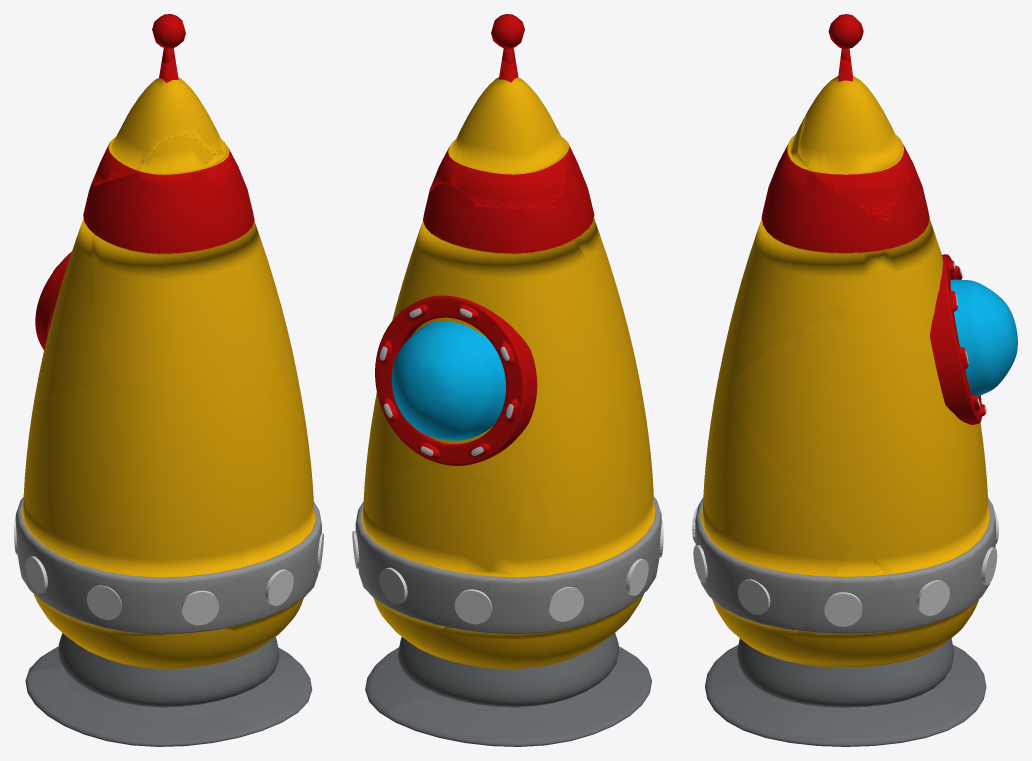
File: Ship Yellow Fractured.fbx
The picture shows the model from 3 angles, left to right: view 1: azimuth 30°, elevation 25°; view 2: azimuth 150°, elevation 25°; view 3: azimuth 270°, elevation 25°; orthographic projection.
Visible parts, largest first — view 1: Cube.002_shard.006, Cube.002_shard, Cube.002_shard.013, Cube.002_shard.005, Cube.002_shard.009, Cube.002_shard.001, Cube.002_shard.003, Cylinder.010, Cube.002_shard.010, Cube.002_shard.007, Window, Cube.002_shard.008 (+1 smaller); view 2: Cube.002_shard.009, Cube.002_shard.004, Window, Cube.002_shard.002, Cube.002_shard.006, Cube.002_shard.001, Cube.002_shard.013, Cylinder.010, Cube.002_shard, Cube.002_shard.007, Cube.002_shard.011, Cube.002_shard.012 (+1 smaller); view 3: Cube.002_shard.007, Cube.002_shard.005, Cube.002_shard, Cube.002_shard.011, Cube.002_shard.002, Cube.002_shard.001, Window, Cube.002_shard.003, Cube.002_shard.009, Cylinder.010, Cube.002_shard.004, Cube.002_shard.013 (+3 smaller).
Part boxes in pixels (x1=…): Cube.002_shard.006: x1=15, y1=381, x2=266, y2=636; Cube.002_shard: x1=90, y1=152, x2=281, y2=403; Cube.002_shard.013: x1=25, y1=603, x2=251, y2=746; Cube.002_shard.005: x1=231, y1=406, x2=321, y2=649; Cube.002_shard.009: x1=33, y1=173, x2=109, y2=408; Cube.002_shard.001: x1=93, y1=58, x2=230, y2=186; Cube.002_shard.003: x1=224, y1=620, x2=312, y2=733; Cylinder.010: x1=14, y1=517, x2=323, y2=625; Cube.002_shard.010: x1=134, y1=136, x2=212, y2=186; Cube.002_shard.007: x1=264, y1=286, x2=304, y2=417; Window: x1=35, y1=251, x2=71, y2=349; Cube.002_shard.008: x1=152, y1=14, x2=185, y2=63; Cube.002_shard.009: x1=403, y1=206, x2=628, y2=491; Cube.002_shard.004: x1=386, y1=491, x2=592, y2=746; Window: x1=375, y1=295, x2=537, y2=465; Cube.002_shard.002: x1=355, y1=464, x2=532, y2=638; Cube.002_shard.006: x1=538, y1=334, x2=661, y2=636; Cube.002_shard.001: x1=429, y1=60, x2=569, y2=210; Cube.002_shard.013: x1=539, y1=594, x2=651, y2=743; Cylinder.010: x1=352, y1=520, x2=663, y2=624; Cube.002_shard: x1=422, y1=151, x2=629, y2=335; Cube.002_shard.007: x1=366, y1=260, x2=442, y2=471; Cube.002_shard.011: x1=365, y1=637, x2=430, y2=716; Cube.002_shard.012: x1=426, y1=183, x2=475, y2=216; Cube.002_shard.007: x1=726, y1=296, x2=979, y2=544; Cube.002_shard.005: x1=695, y1=391, x2=854, y2=649; Cube.002_shard: x1=722, y1=151, x2=892, y2=386; Cube.002_shard.011: x1=783, y1=544, x2=970, y2=746; Cube.002_shard.002: x1=861, y1=422, x2=995, y2=646; Cube.002_shard.001: x1=797, y1=59, x2=917, y2=221; Window: x1=930, y1=254, x2=1017, y2=424; Cube.002_shard.003: x1=706, y1=630, x2=834, y2=746; Cube.002_shard.009: x1=867, y1=173, x2=943, y2=328; Cylinder.010: x1=692, y1=507, x2=998, y2=626; Cube.002_shard.004: x1=919, y1=613, x2=986, y2=715; Cube.002_shard.013: x1=705, y1=638, x2=748, y2=692.
Size of the model in its own units: 242 by 580 by 255.
